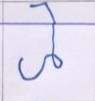e_matra: (42, 2, 60, 22)
